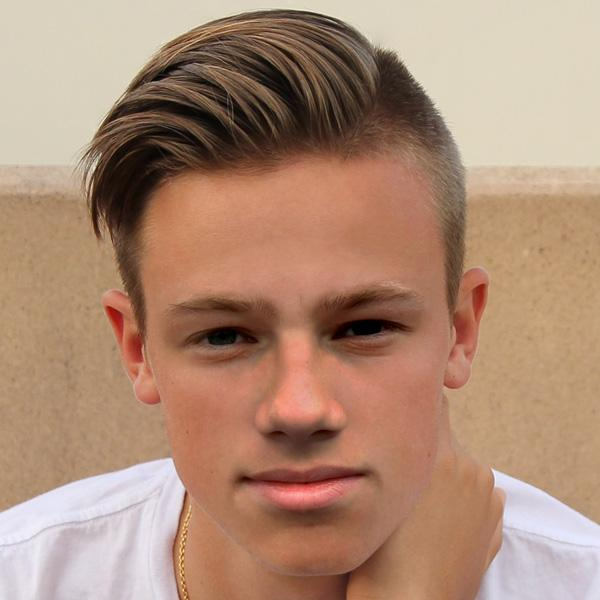Eyes: (171, 310, 272, 372), (316, 303, 414, 362)
